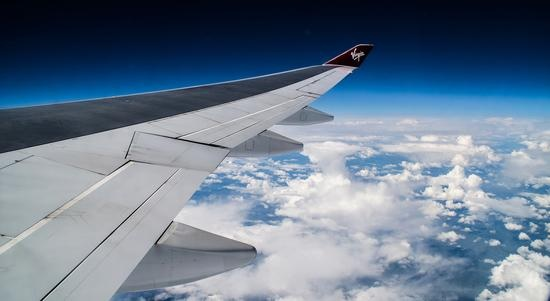airplane: (1, 42, 376, 301)
